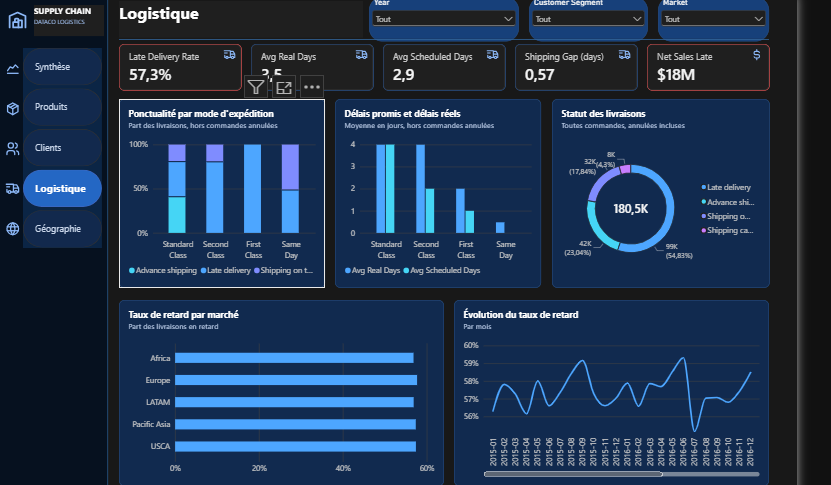

The dashboard page shown, as its layout file describes it:
{"tool":"powerbi","page":{"name":"Logistique","canvas":[1440,900],"ordinal":3},"visuals":[{"type":"shape","box":[0,0,200,900],"z":0},{"type":"textbox","box":[66,18,126,56],"z":1000},{"type":"pageNavigator","box":[46,96,142,360],"z":2000},{"type":"image","box":[14,118,28,28],"z":4000},{"type":"image","box":[14,190,28,28],"z":4000},{"type":"image","box":[14,262,28,28],"z":4000},{"type":"image","box":[14,334,28,28],"z":4000},{"type":"image","box":[14,406,28,28],"z":4000},{"type":"slicer","title":"Marché","fields":{"Values":["Dim_Geography.Market"]},"box":[1189.8,4,200.2,80],"z":5000},{"type":"slicer","title":"Segment client","fields":{"Values":["Dim_Customer.Customer Segment"]},"box":[958,4,213.8,80],"z":6000},{"type":"slicer","title":"Année","fields":{"Values":["Dim_Date.Year"]},"box":[670,4,270,80],"z":7000},{"type":"cardVisual","fields":{"Data":["Fact_OrderItems.Shipping Gap (days)"]},"box":[932.1,88,220.5,84],"z":8000},{"type":"cardVisual","fields":{"Data":["Fact_OrderItems.Avg_Scheduled_Days"]},"box":[694.8,88,220.5,84],"z":9000},{"type":"cardVisual","fields":{"Data":["Fact_OrderItems.Avg_Real_Days"]},"box":[457.4,88,220.5,84],"z":10000},{"type":"cardVisual","fields":{"Data":["Fact_OrderItems.Net Sales Late"]},"box":[1169.5,88,220.5,84],"z":11000},{"type":"cardVisual","fields":{"Data":["Fact_OrderItems.Late Delivery Rate"]},"box":[220,88,220.5,84],"z":12000},{"type":"shape","box":[220,80,1170,1],"z":12050},{"type":"hundredPercentStackedColumnChart","title":"Ponctualité par mode d''expédition","fields":{"Category":["Fact_OrderItems.ShippingMode"],"Series":["Dim_OrderStatus.Delivery Status"],"Y":["Fact_OrderItems.Total Items"]},"box":[220,188,371.2,340],"z":13000},{"type":"clusteredColumnChart","title":"Délais promis et délais réels","fields":{"Category":["Fact_OrderItems.ShippingMode"],"Y":["Fact_OrderItems.Avg_Real_Days","Fact_OrderItems.Avg_Scheduled_Days"]},"box":[609.2,188,371.2,340],"z":14000},{"type":"donutChart","title":"Statut des livraisons","fields":{"Category":["Dim_OrderStatus.Delivery Status"],"Y":["Fact_OrderItems.Total Items"]},"box":[998.5,188,391.5,340],"z":15000},{"type":"clusteredBarChart","title":"Taux de retard par marché","fields":{"Category":["Dim_Geography.Market Hiérarchie.Market","Dim_Geography.Market Hiérarchie.Order Region"],"Y":["Fact_OrderItems.Late Delivery Rate"]},"box":[220,549.8,585,334.6],"z":16000},{"type":"lineChart","title":"Évolution du taux de retard","fields":{"Category":["Dim_Date.Year-Month"],"Y":["Fact_OrderItems.Late Delivery Rate"]},"box":[823,549.8,567,334.6],"z":17000},{"type":"textbox","box":[220,10,438.8,66],"z":17001},{"type":"image","box":[18,25,38,38],"z":25000},{"type":"image","box":[404.5,96,27,24],"z":25001},{"type":"image","box":[641.9,96,27,24],"z":25001},{"type":"image","box":[879.2,96,27,24],"z":25001},{"type":"image","box":[1116.6,96,27,24],"z":25001},{"type":"image","box":[1354,96,27,24],"z":25001}]}

Visuals, with their boxes on the page's 1440x900 design canvas (x1, y1, x2, y2). These are canvas units, not pixel positions in the 831x485 screenshot, which may show the page scaled, cropped or inside an application window:
shape: region(0, 0, 200, 900)
textbox: region(66, 18, 192, 74)
pageNavigator: region(46, 96, 188, 456)
image: region(14, 118, 42, 146)
image: region(14, 190, 42, 218)
image: region(14, 262, 42, 290)
image: region(14, 334, 42, 362)
image: region(14, 406, 42, 434)
"Marché" slicer: region(1190, 4, 1390, 84)
"Segment client" slicer: region(958, 4, 1172, 84)
"Année" slicer: region(670, 4, 940, 84)
cardVisual - Fact_OrderItems.Shipping Gap (days): region(932, 88, 1153, 172)
cardVisual - Fact_OrderItems.Avg_Scheduled_Days: region(695, 88, 915, 172)
cardVisual - Fact_OrderItems.Avg_Real_Days: region(457, 88, 678, 172)
cardVisual - Fact_OrderItems.Net Sales Late: region(1170, 88, 1390, 172)
cardVisual - Fact_OrderItems.Late Delivery Rate: region(220, 88, 440, 172)
shape: region(220, 80, 1390, 81)
"Ponctualité par mode d''expédition" hundredPercentStackedColumnChart: region(220, 188, 591, 528)
"Délais promis et délais réels" clusteredColumnChart: region(609, 188, 980, 528)
"Statut des livraisons" donutChart: region(998, 188, 1390, 528)
"Taux de retard par marché" clusteredBarChart: region(220, 550, 805, 884)
"Évolution du taux de retard" lineChart: region(823, 550, 1390, 884)
textbox: region(220, 10, 659, 76)
image: region(18, 25, 56, 63)
image: region(404, 96, 432, 120)
image: region(642, 96, 669, 120)
image: region(879, 96, 906, 120)
image: region(1117, 96, 1144, 120)
image: region(1354, 96, 1381, 120)
